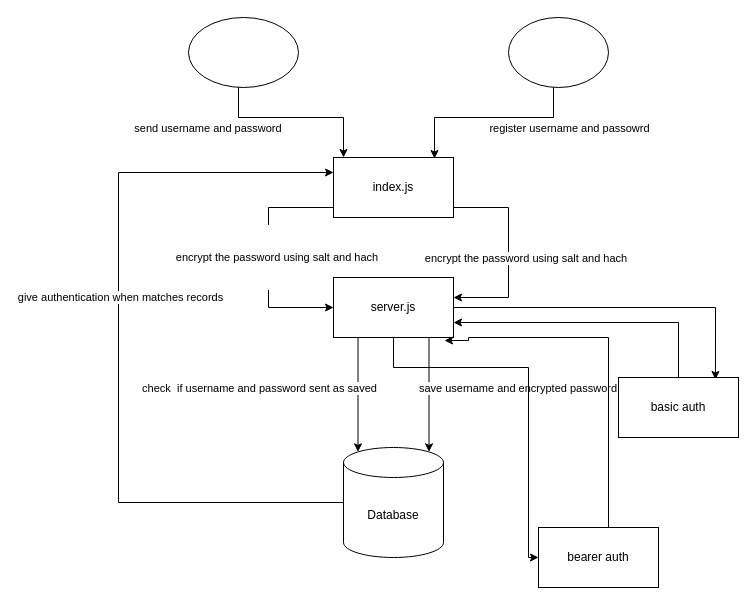
This 756x605 diagram has some shape labels left out. Here are the shapes that lost their labels. From the top down, the centre of each, then its label:
the point at 243,52: /signin
the point at 558,52: /signup
